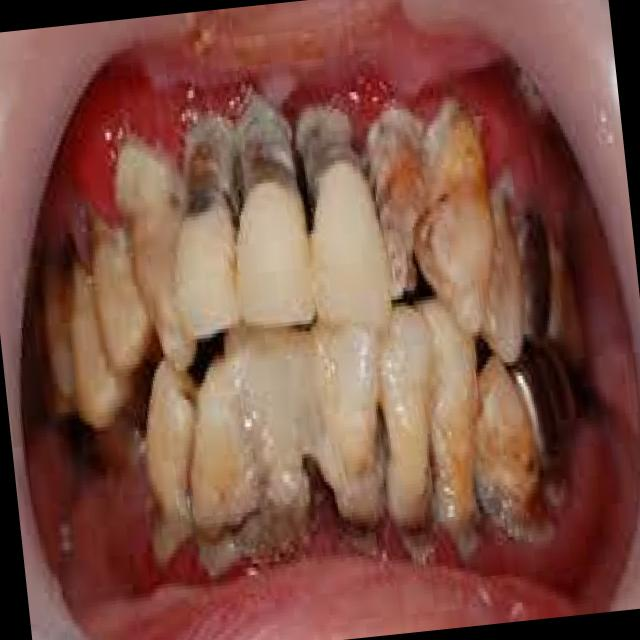Caries: (218, 507, 258, 544)
Cavity: (299, 105, 371, 222), (238, 105, 302, 215), (179, 117, 237, 218)
Tooth: (303, 106, 392, 329), (291, 323, 383, 519), (416, 108, 492, 339), (237, 101, 314, 326), (227, 322, 308, 534), (407, 300, 481, 530), (117, 147, 192, 370), (194, 361, 268, 564), (474, 352, 551, 541), (175, 117, 236, 334), (370, 310, 430, 528), (362, 110, 428, 290), (146, 363, 194, 556), (89, 217, 149, 366), (482, 172, 525, 361)
